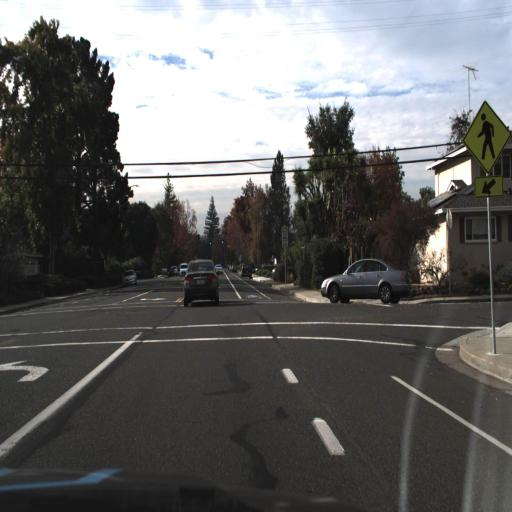car: (321, 256, 413, 305), (181, 258, 222, 307), (121, 266, 136, 287), (241, 262, 254, 278), (179, 263, 188, 276)
